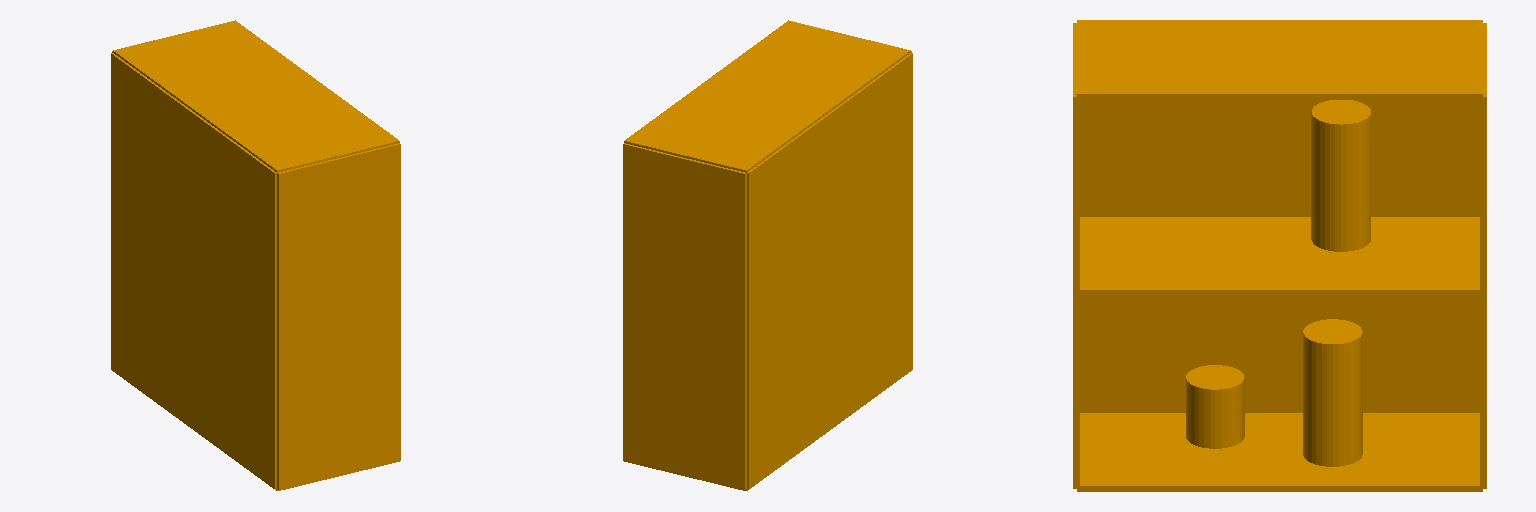
URDF robot description (syn_can_cabinet_43):
<?xml version="1.0" ?>
<robot name="syn_can_cabinet_43">
    <link concave="yes" name="base_link">
        <inertial>
            <origin rpy="0 0 0" xyz="0 0 0"/>
            <mass value="0.0"/>
            <inertia ixx="1e-08" ixy="0" ixz="0" iyy="1e-08" iyz="0" izz="1e-08"/>
        </inertial>
        <visual>
            <origin xyz="0 0 0" rpy="0 0 0" />
            <geometry>
                <mesh filename="syn_can_cabinet_43.obj" scale="1.000000 1.000000 1.000000"/>
            </geometry>         
        </visual>

        <collision concave="yes">
            <origin xyz="0 0 0" rpy="0 0 0"/>
            <geometry>
                <mesh filename="syn_can_cabinet_43.obj" scale="1.000000 1.000000 1.000000"/>
            </geometry>
        </collision>
    </link>
</robot>
    

--- What the picture shows (computed from the rendered views, not written in the file) ---
3 views of the same robot in one strip: view 1: azimuth 30°, elevation 25°; view 2: azimuth 150°, elevation 25°; view 3: azimuth 270°, elevation 25° (orthographic).
Model syn_can_cabinet_43 with 1 links and 0 joints (none), rooted at base_link, posed every joint at zero.
Visible links, largest first — view 1: base_link; view 2: base_link; view 3: base_link.
Boxes of the visible links, bbox=[...] form: base_link: bbox=[111, 20, 400, 490]; base_link: bbox=[623, 20, 912, 490]; base_link: bbox=[1073, 20, 1486, 491].
Size in the robot's own frame: 0.1548 by 0.3591 by 0.3804 metres.
1 mesh visuals loaded from 1 distinct referenced files (1 OBJ).
